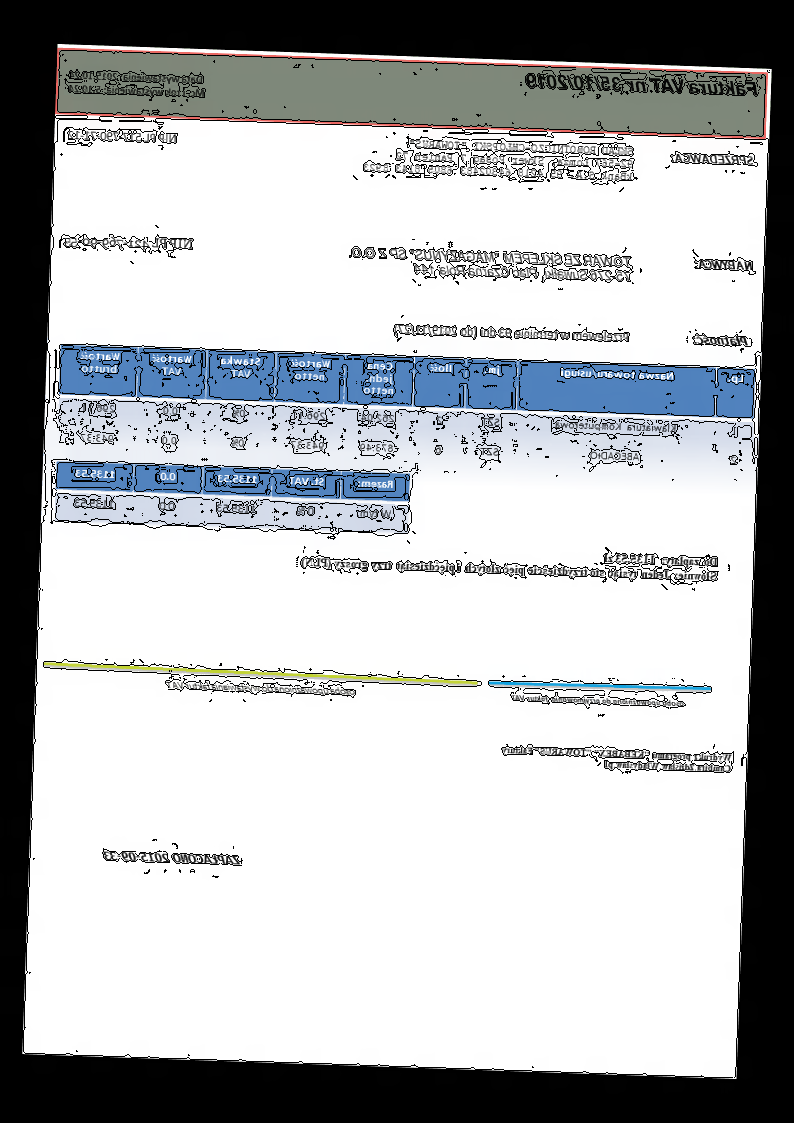Table: (56, 343, 757, 482), (53, 459, 412, 534)
TextBox: (298, 539, 721, 586), (362, 135, 637, 183), (343, 244, 634, 285), (498, 743, 735, 775), (523, 70, 761, 99), (394, 321, 631, 344), (66, 69, 208, 100), (162, 678, 358, 697), (62, 231, 195, 254), (509, 692, 687, 709), (102, 847, 243, 867), (66, 126, 180, 146), (669, 150, 756, 168), (694, 256, 755, 274), (691, 332, 750, 348)
